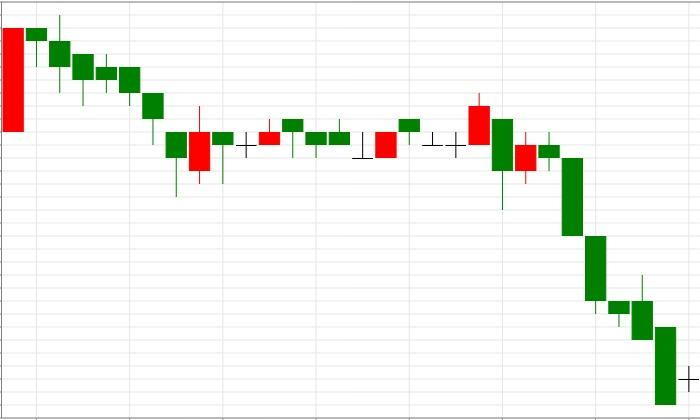hammer_rise: (26, 14, 187, 197)
